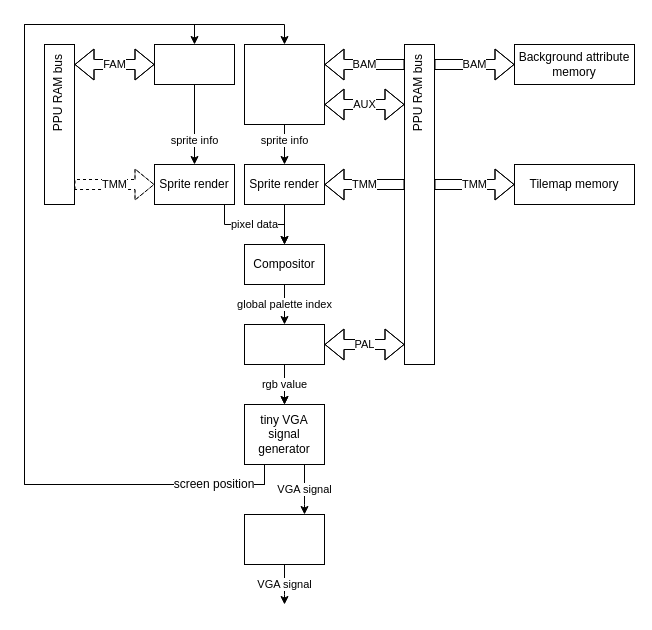
Image size: 652x630. Some labels were removed from this diagram. Each missing label, with the centre of its shape:
"Background sprite info" belongs at pixel 284 84.
"Foreground sprite info" belongs at pixel 194 64.
"native VGA signal generator" belongs at pixel 284 539.
"Palette lookup" belongs at pixel 284 344.
